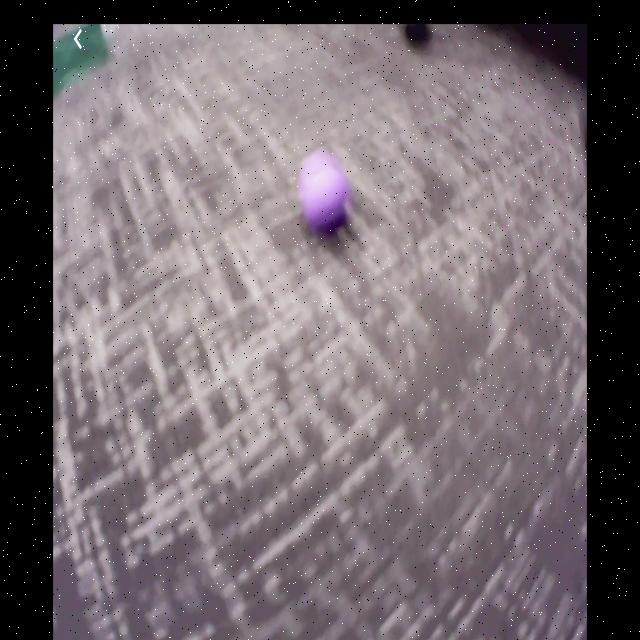ball: (302, 152, 348, 228)
